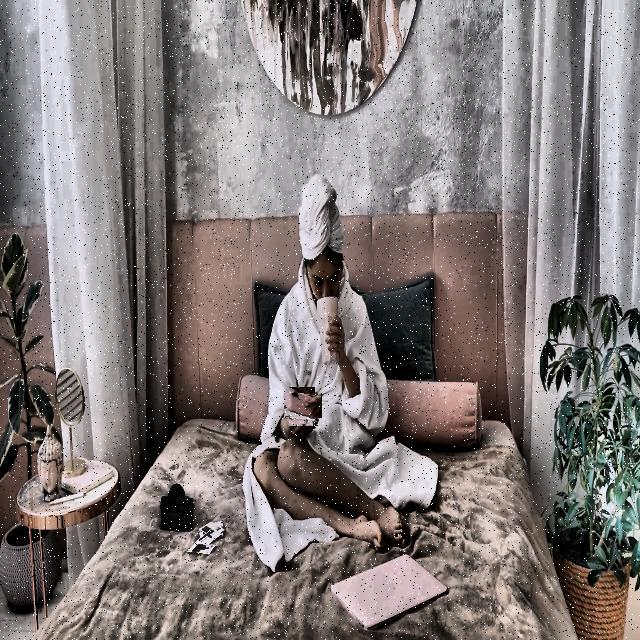Phone: (285, 389, 320, 424)
